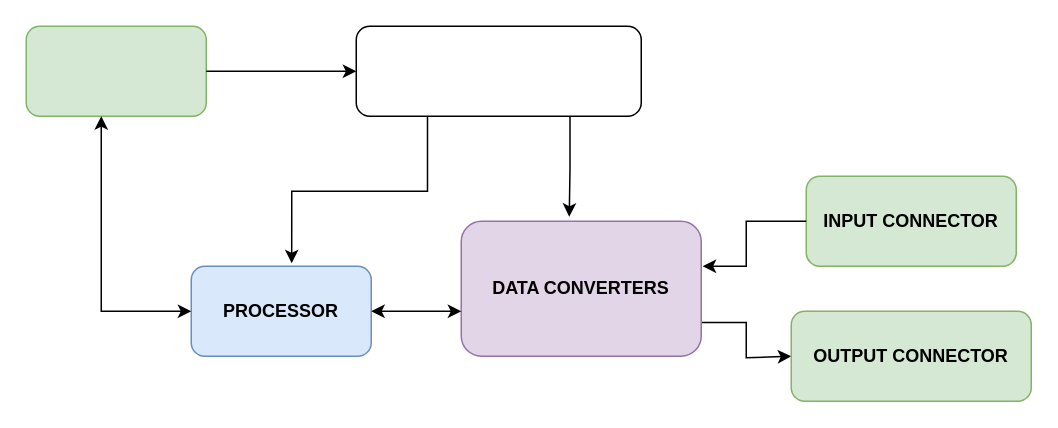
This 1058x428 diagram has some shape labels left out. The centre of each missing label's shape, as x and y in pixels:
POWER SUPPLY: the point at 498,70
USB: the point at 115,70
